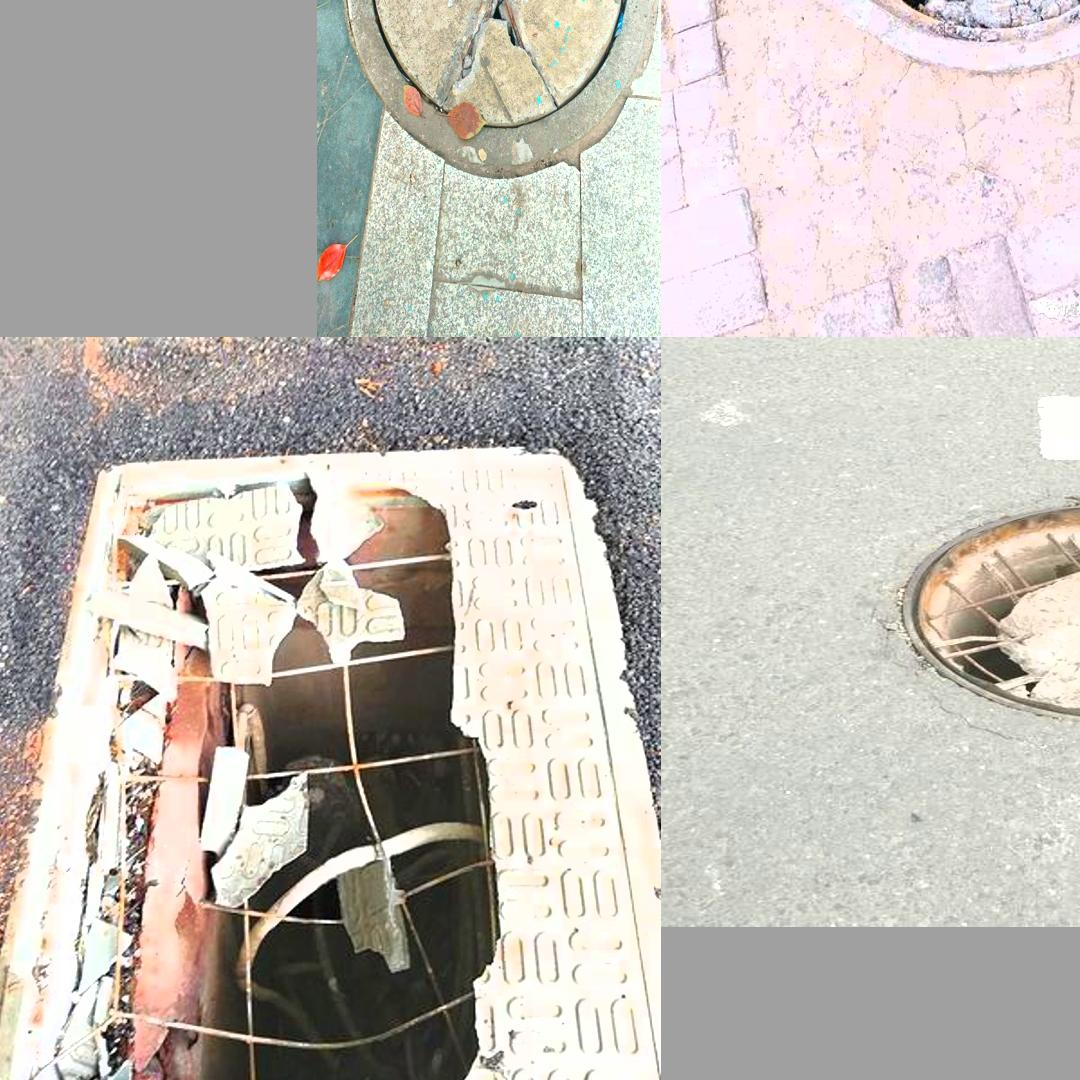broke: (0, 419, 655, 1080), (345, 0, 658, 182), (879, 478, 1080, 732), (736, 0, 1080, 88)
